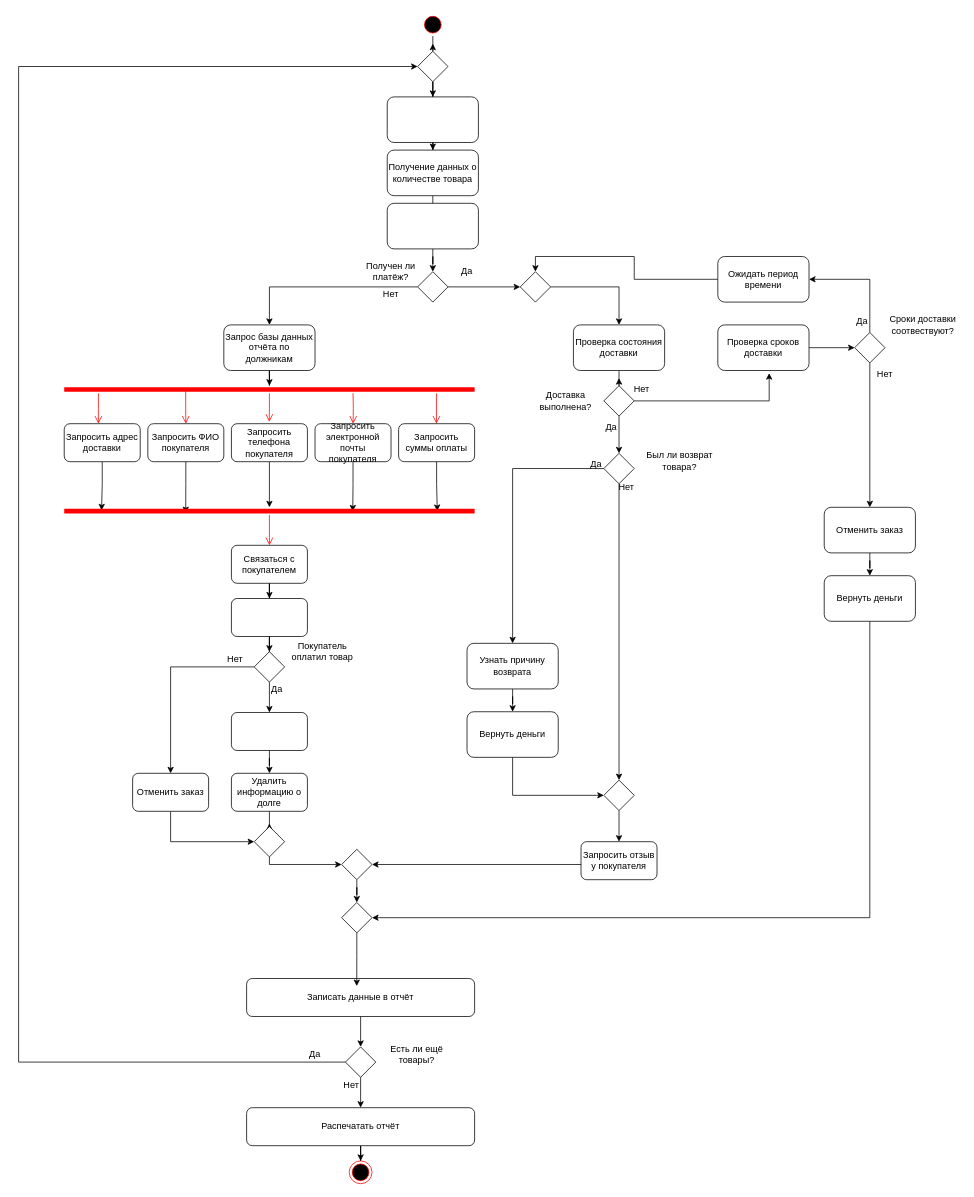
This 974x1197 diagram has some shape labels left out. Each missing label, with the centre of its shape:
"Напомнить о сумме оплаты" goes at (269,617).
"Получение данных о проданном товаре" goes at (432,119).
"Получение денежных средств на счёт" goes at (269,731).
"Проверка оплаты" goes at (432,226).
